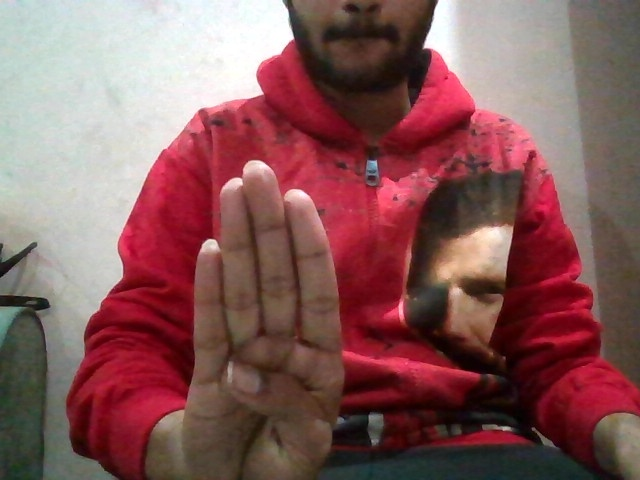B: (175, 148, 361, 480)
